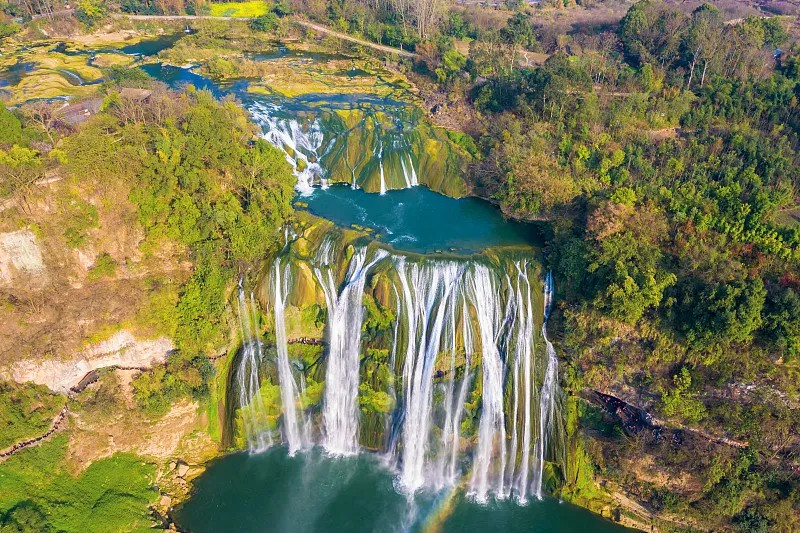Huangguoshu: (236, 228, 559, 505)
